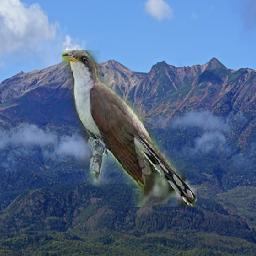Cuckoo: (63, 51, 198, 208)
